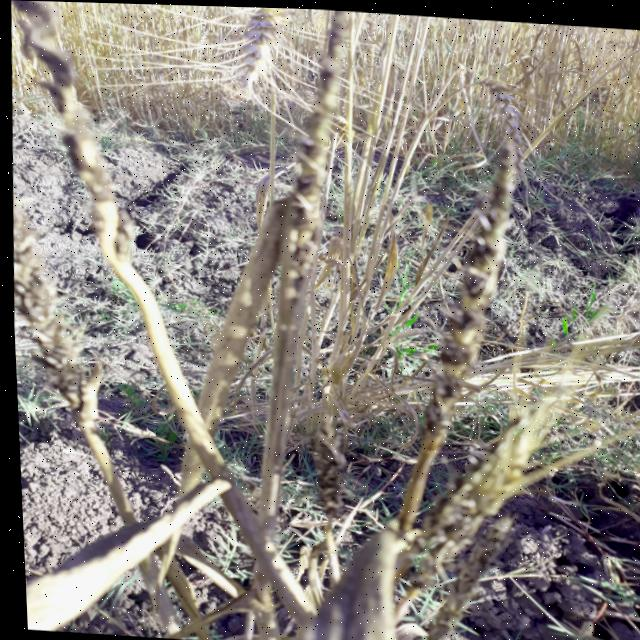loose_charred: (296, 105, 587, 640), (219, 5, 427, 483), (1, 0, 219, 282), (8, 215, 160, 524)
